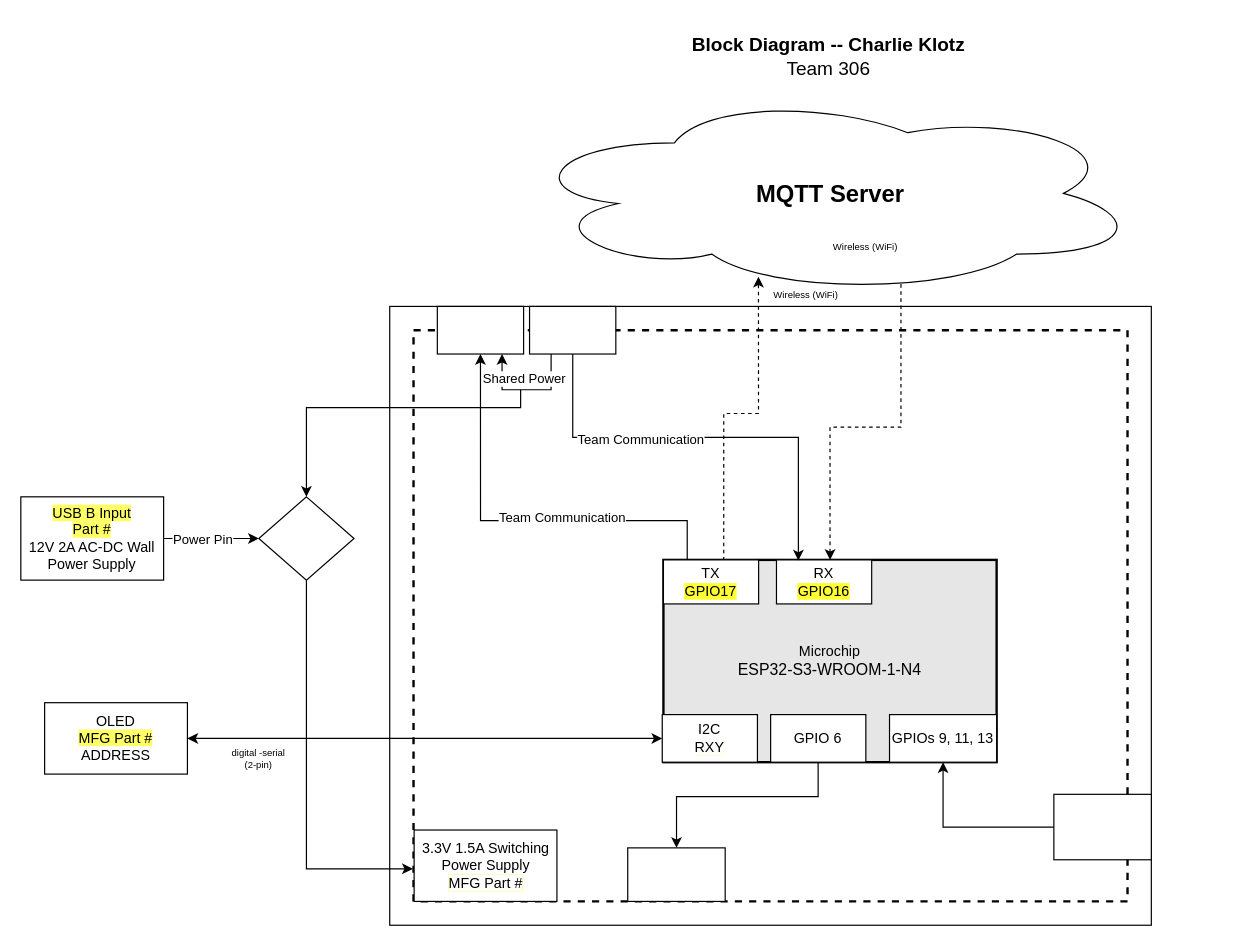
Some shapes in this 1242 by 946 pixel diagram are drawn without their labels. Here are the shapes that lost their labels. From the top down, the centre of each, then its label:
At point 480,329: "Upstream Header".
At point 572,329: "Downstream Header".
At point 306,538: "Jumper Switch".
At point 1102,826: "Control Buttons 1, 2, 3 MFG Part #".
At point 676,874: "Debug LED MFG Part #".
